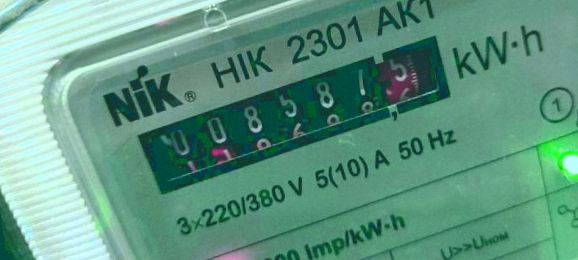0: (201, 109, 232, 147), (165, 122, 195, 158)
5: (275, 86, 302, 120), (385, 49, 411, 83)
6: (394, 83, 415, 103)
7: (347, 63, 374, 100)
8: (239, 100, 268, 135), (311, 75, 338, 111)
screen: (121, 30, 481, 199)
